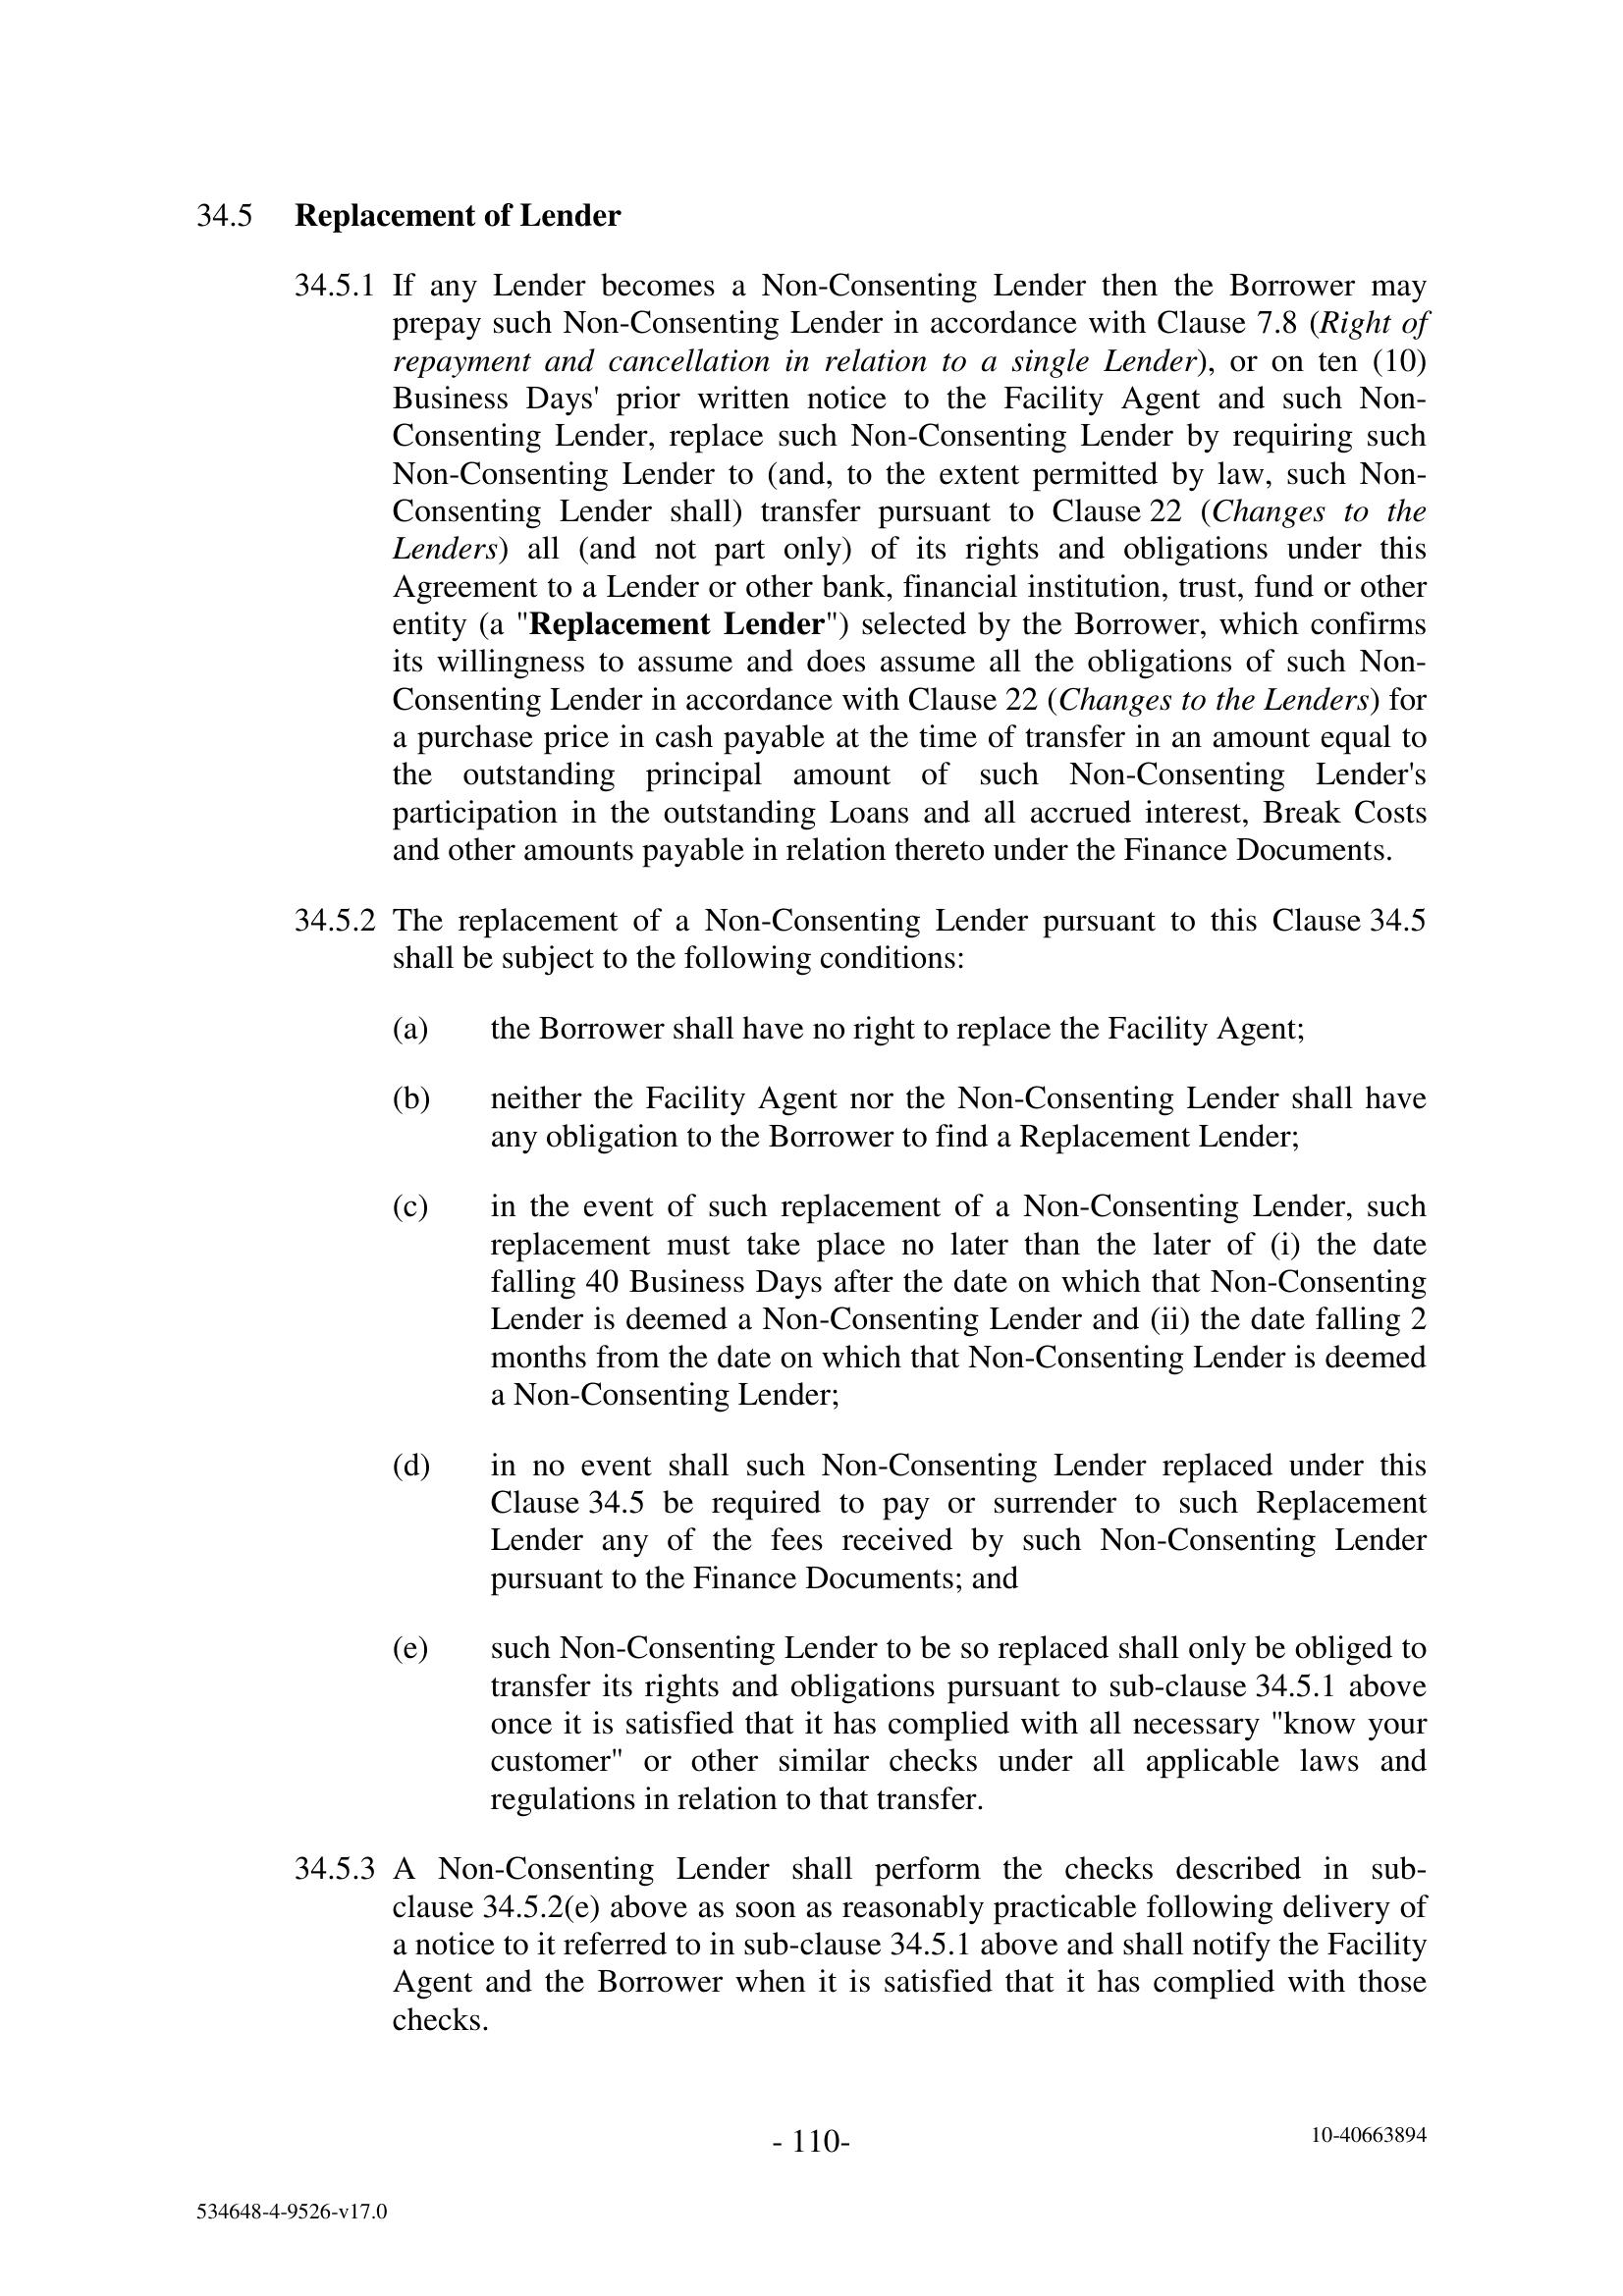pageno: (718, 2073, 913, 2217)
tag: (121, 2161, 480, 2266), (1203, 2087, 1526, 2177)
